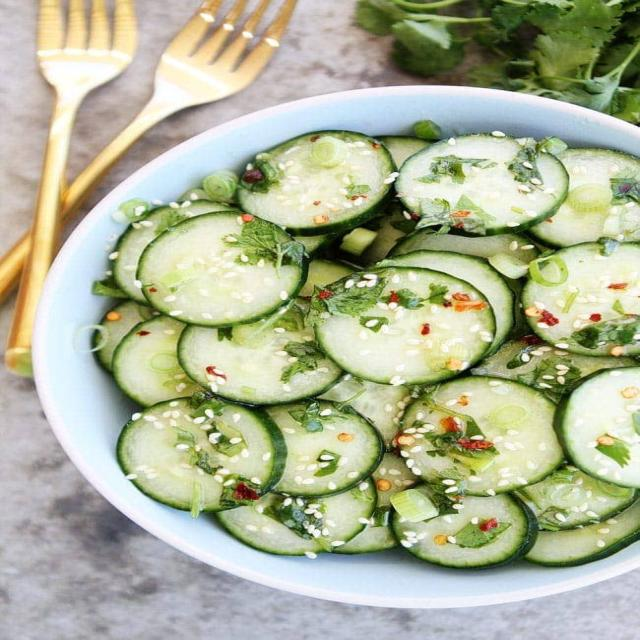Pickle: (309, 268, 497, 384), (118, 392, 287, 514), (396, 376, 564, 496), (137, 211, 308, 327), (396, 131, 568, 234), (178, 299, 341, 404), (238, 130, 398, 235), (374, 250, 516, 354), (521, 241, 639, 356), (264, 400, 382, 497), (531, 148, 639, 247), (394, 494, 536, 568), (555, 368, 640, 488), (112, 315, 202, 406), (514, 465, 638, 531), (525, 500, 639, 566), (216, 494, 324, 556), (334, 526, 398, 554)
